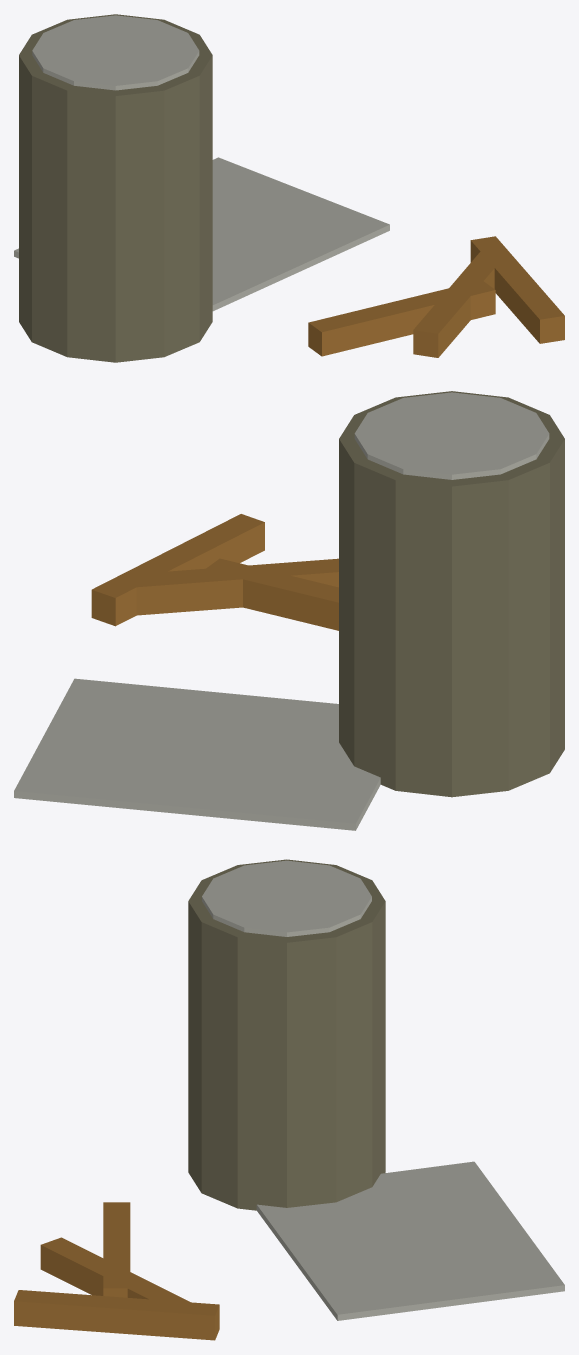
Rendered from SM_BidonFuego_v4_Apagado_LOD0.fbx.
3 renders of one model, top to bottom at view 1: azimuth 30°, elevation 25°; view 2: azimuth 150°, elevation 25°; view 3: azimuth 270°, elevation 25°, orthographic. The views are drawn at different scales.
Parts seen in each view (by area): view 1: SM_vida_fuerte_v4_LOD0; view 2: SM_vida_fuerte_v4_LOD0; view 3: SM_vida_fuerte_v4_LOD0.
Boxes of the visible parts, bbox=[...] form: SM_vida_fuerte_v4_LOD0: bbox=[14, 14, 564, 362]; SM_vida_fuerte_v4_LOD0: bbox=[14, 391, 564, 830]; SM_vida_fuerte_v4_LOD0: bbox=[14, 859, 564, 1340].
Bounding box in the file's own units: 1.48 × 0.895 × 1.62.
